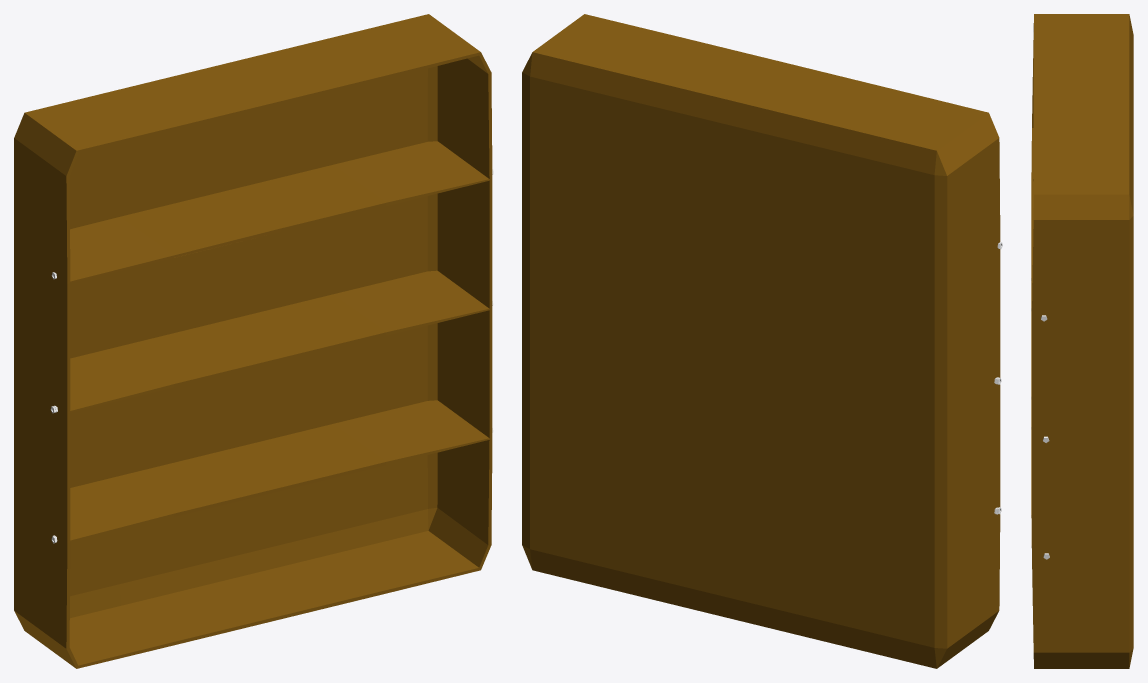
Rendered from Cupboard.fbx.
The picture shows the model from 3 angles, left to right: view 1: azimuth 30°, elevation 25°; view 2: azimuth 150°, elevation 25°; view 3: azimuth 270°, elevation 25°; orthographic projection. The views are drawn at different scales.
Parts seen in each view (by area): view 1: Cube; view 2: Cube; view 3: Cube.
Boxes of the visible parts, bbox=[...] form: Cube: bbox=[14, 14, 492, 668]; Cube: bbox=[522, 14, 1000, 668]; Cube: bbox=[1031, 14, 1133, 668].
Bounding box in the file's own units: 133 × 150 × 29.3.
